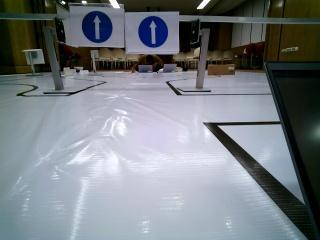straight: (126, 13, 179, 52), (73, 7, 121, 46)
